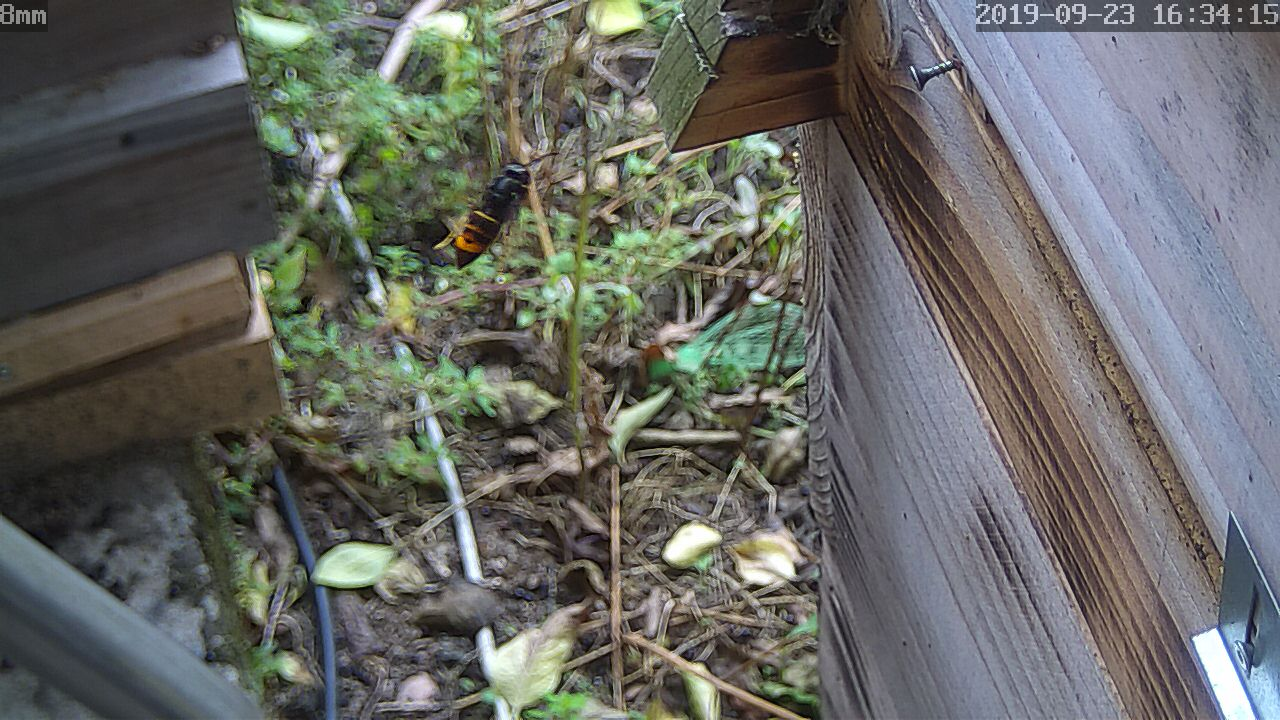hornet: (434, 155, 545, 272)
